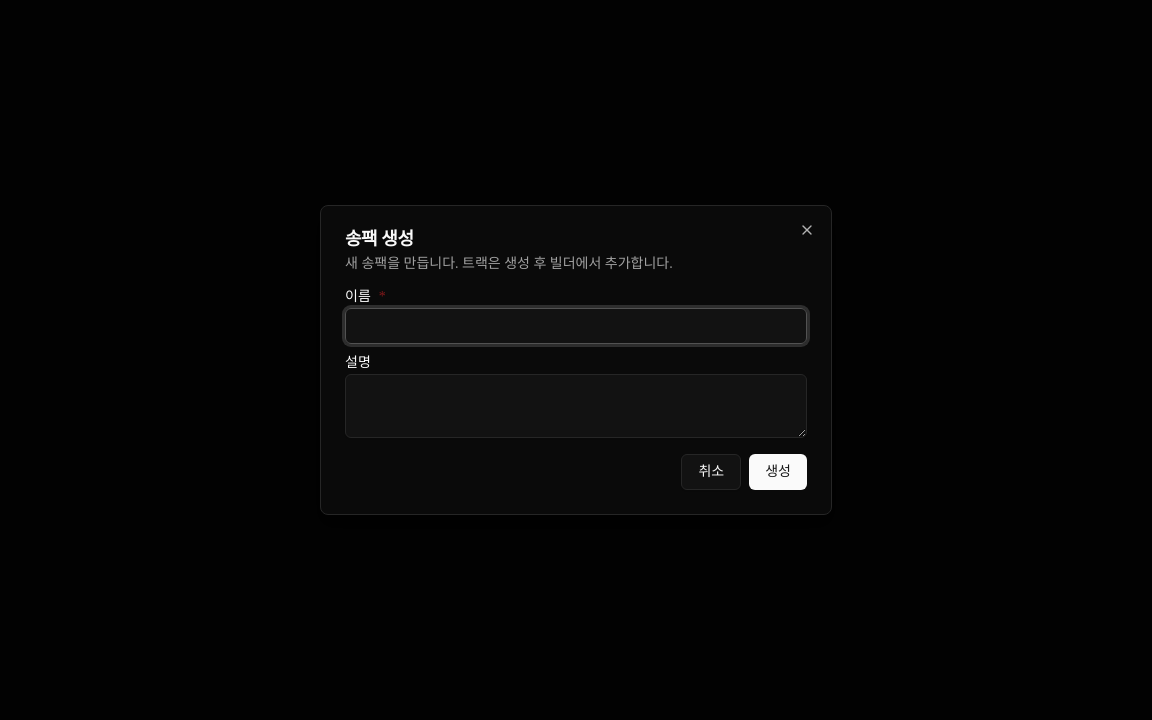
Test: CreateSongPackDialog › 이름 비면 검증 에러 → POST 안 함
Click the button "생성". click: x=778, y=472
box: 749,454 -> 807,490
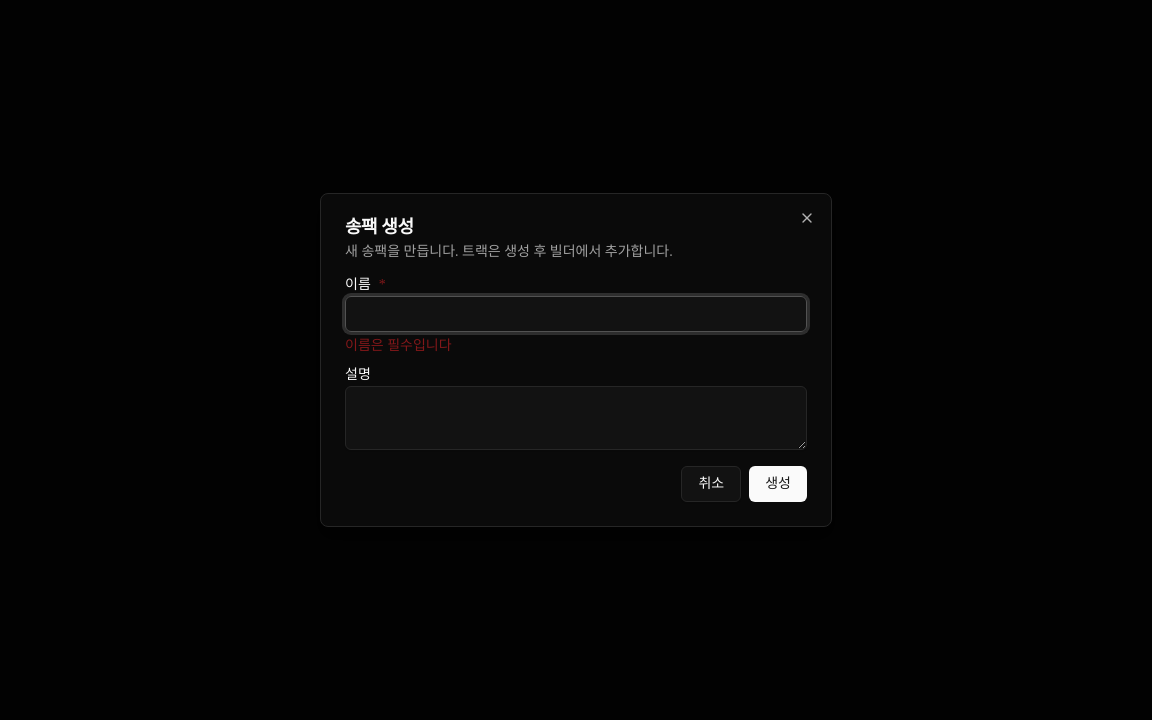
Check: the text "이름은 필수입니다" is shown, box 345,338 -> 452,353
